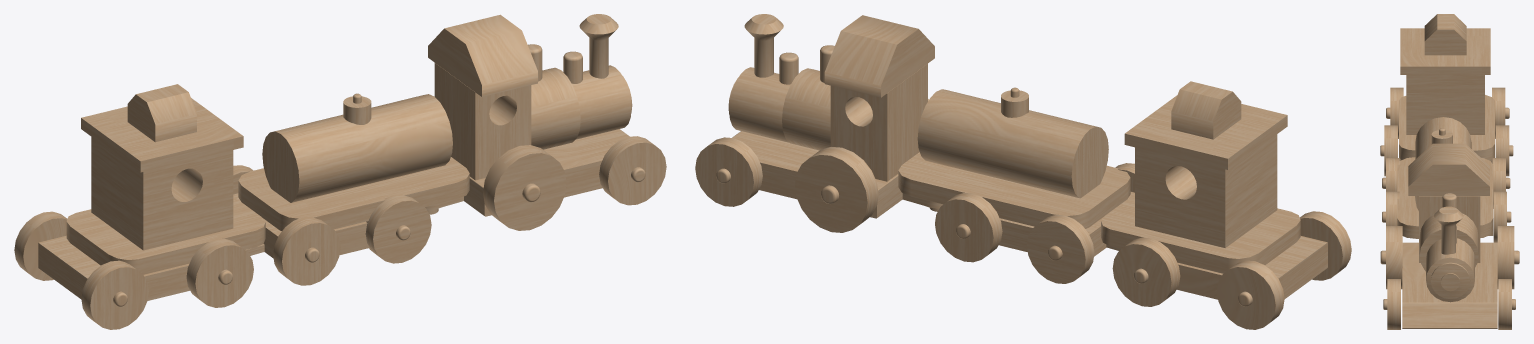
The model's file is toy_train.glb.
The picture shows the model from 3 angles, left to right: view 1: azimuth 30°, elevation 25°; view 2: azimuth 150°, elevation 25°; view 3: azimuth 270°, elevation 25°; orthographic projection. The views are drawn at different scales.
Visible parts, largest first — view 1: wagon2, train, wagon1; view 2: wagon2, train, wagon1; view 3: train, wagon2, wagon1.
Boxes of the visible parts, left/top/right/bottom form: wagon2: left=14, top=84, right=265, bottom=329; train: left=425, top=14, right=666, bottom=230; wagon1: left=233, top=93, right=469, bottom=285; wagon2: left=1101, top=81, right=1351, bottom=329; train: left=695, top=14, right=942, bottom=232; wagon1: left=898, top=87, right=1134, bottom=283; train: left=1380, top=143, right=1519, bottom=329; wagon2: left=1380, top=14, right=1513, bottom=176; wagon1: left=1382, top=117, right=1511, bottom=242.
Size of the model in its own units: 10.33 by 3.23 by 2.83.
Materials: 1 (1 with a texture image).
